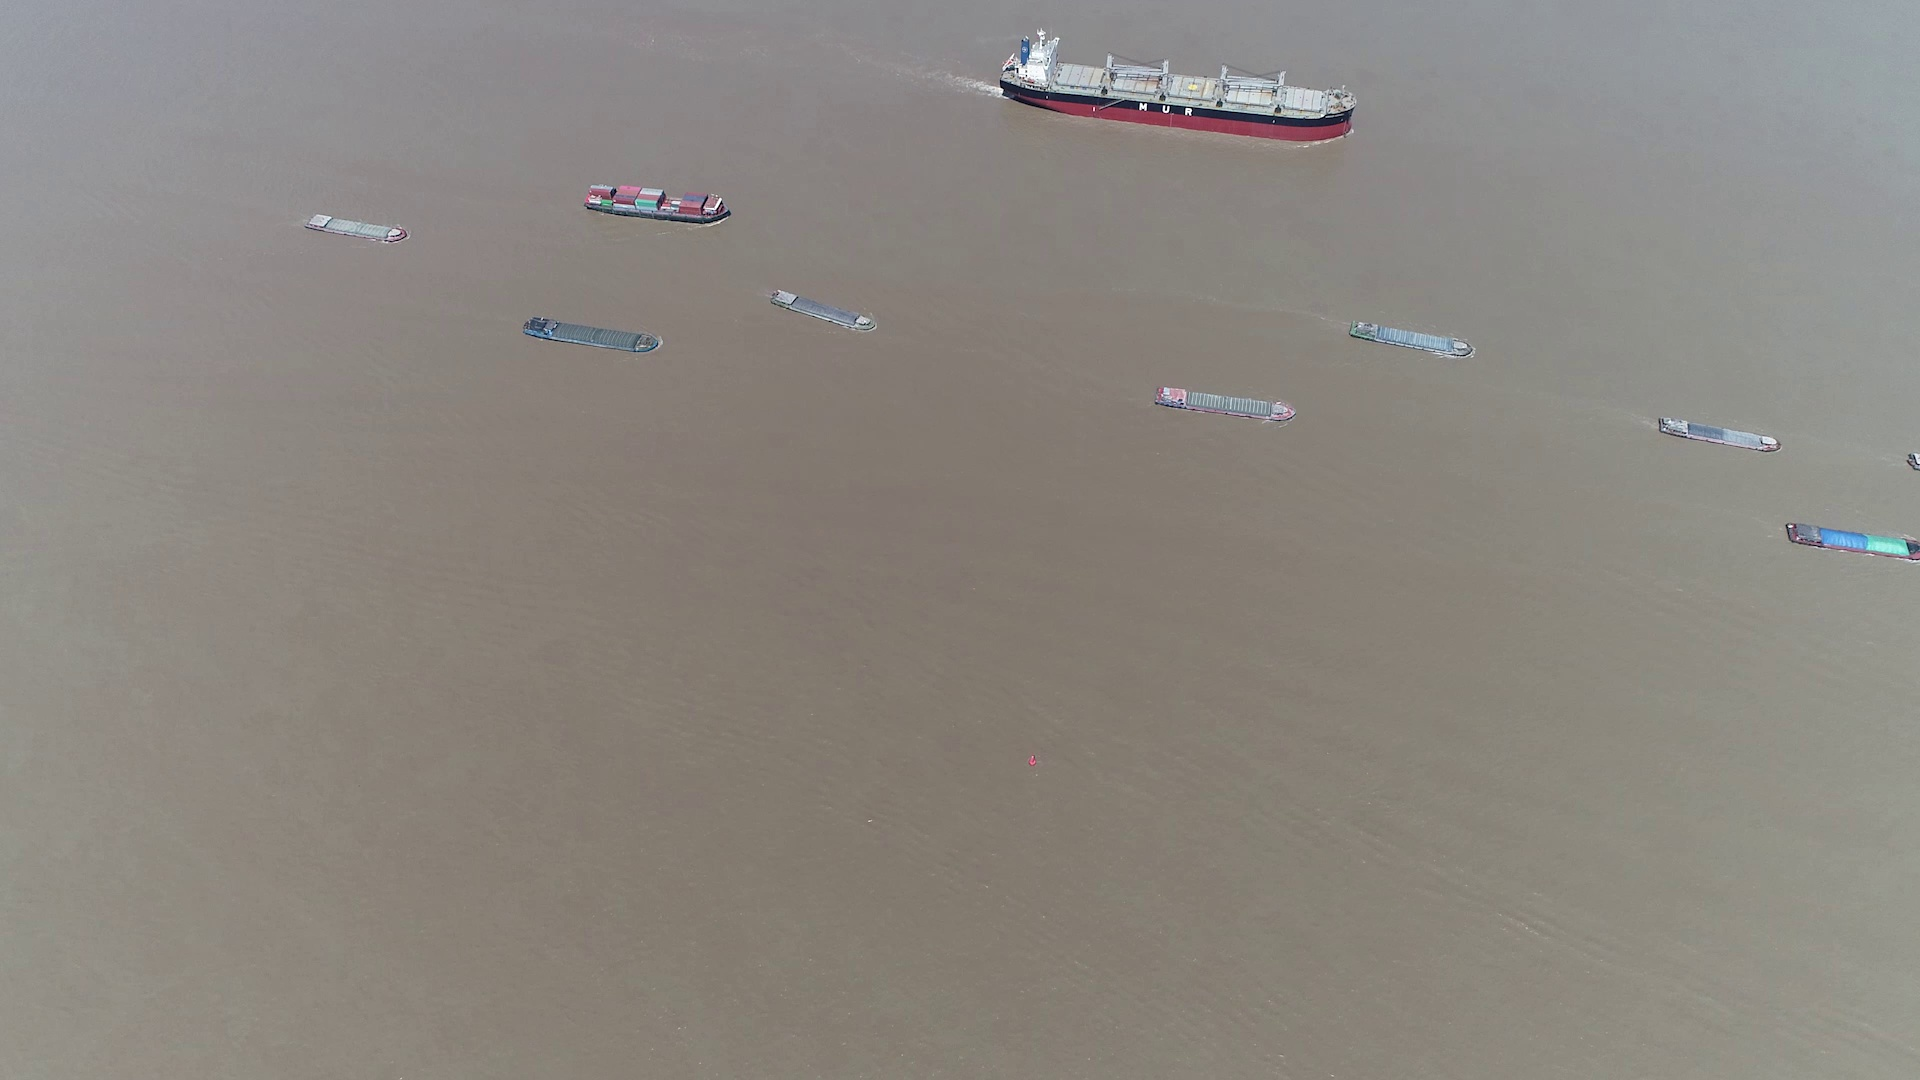ship: (1000, 36, 1356, 140), (1785, 520, 1920, 563), (585, 185, 732, 224), (1156, 385, 1298, 422), (524, 316, 662, 353), (1346, 320, 1472, 360), (1655, 415, 1782, 454), (771, 290, 880, 334), (303, 212, 407, 243)
